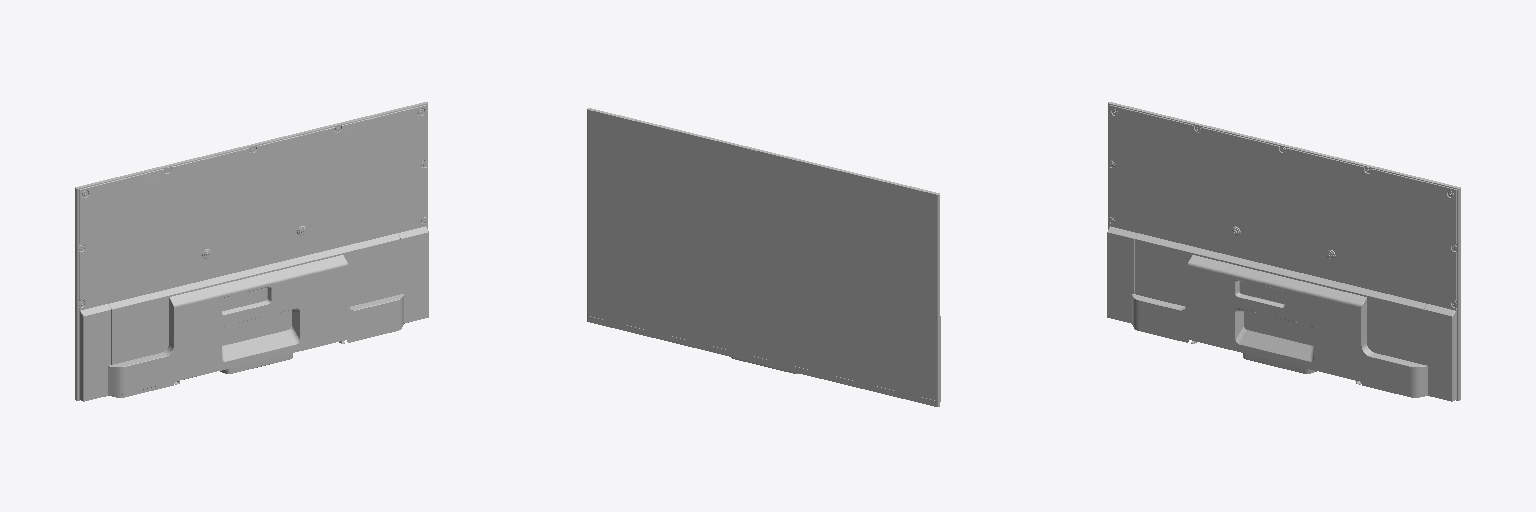
The model's file is SmartTV.obj.
3 renders of one model, left to right at view 1: azimuth 30°, elevation 25°; view 2: azimuth 150°, elevation 25°; view 3: azimuth 330°, elevation 25°, orthographic.
Bounding box in the file's own units: 137 × 79.95 × 7.17.